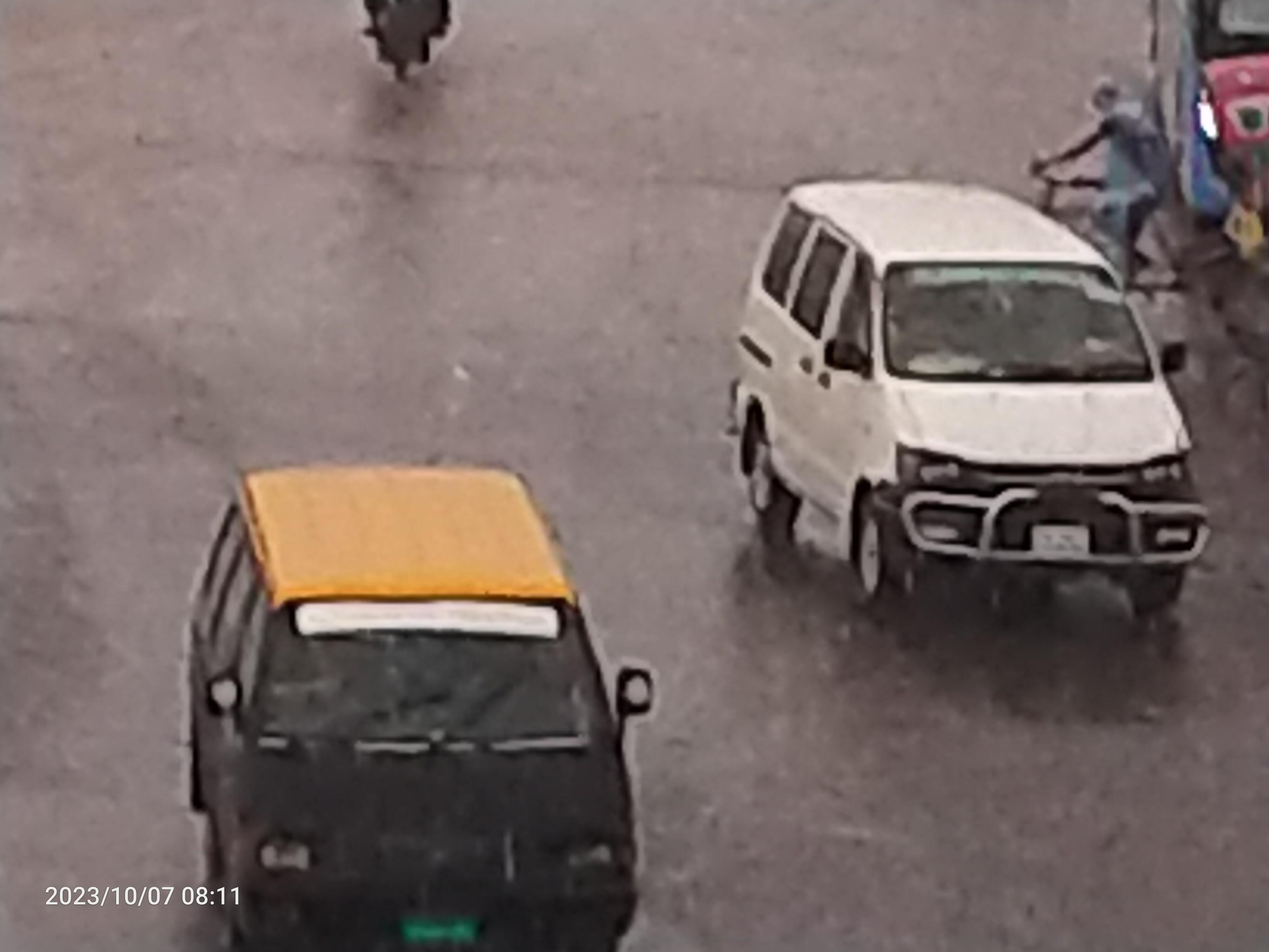Car: (76, 397, 680, 952), (694, 154, 1246, 654), (1006, 27, 1269, 296)
